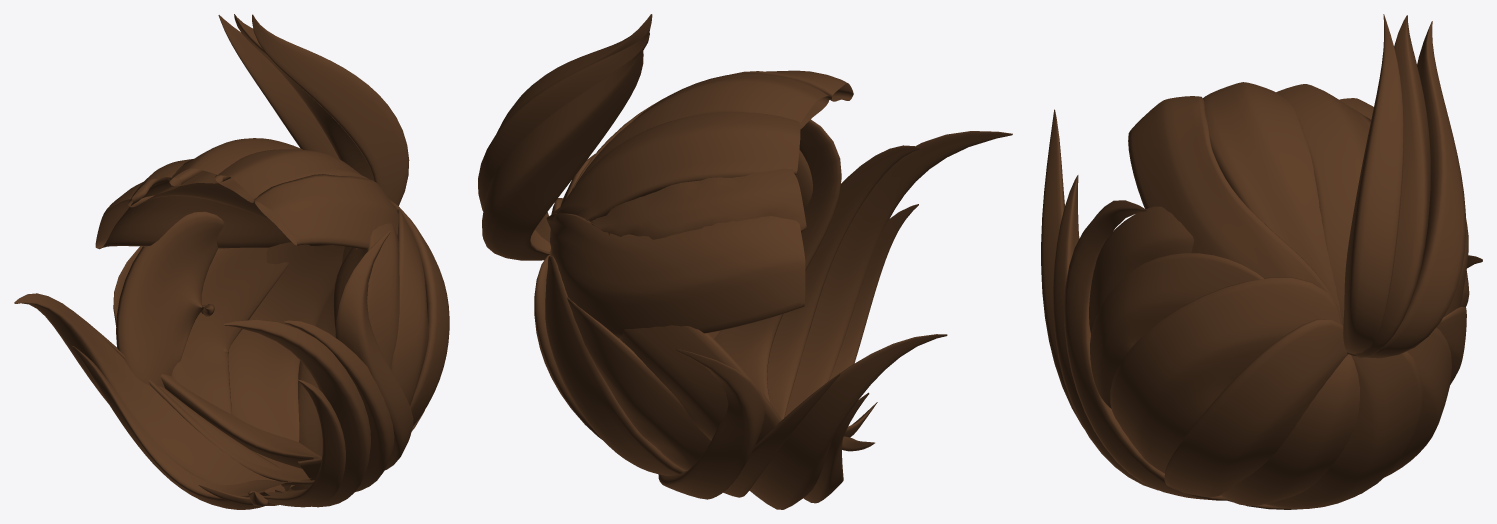
File: Hair_001.fbx
The picture shows the model from 3 angles, left to right: view 1: azimuth 30°, elevation 25°; view 2: azimuth 150°, elevation 25°; view 3: azimuth 270°, elevation 25°; orthographic projection. The views are drawn at different scales.
Visible parts, largest first — view 1: Hair.001; view 2: Hair.001; view 3: Hair.001.
Boxes of the visible parts, x1,y1,x2,y2 form: Hair.001: (14,14,449,509); Hair.001: (478,14,1012,509); Hair.001: (1041,14,1482,509).
Size of the model in its own units: 124 by 132 by 104.
